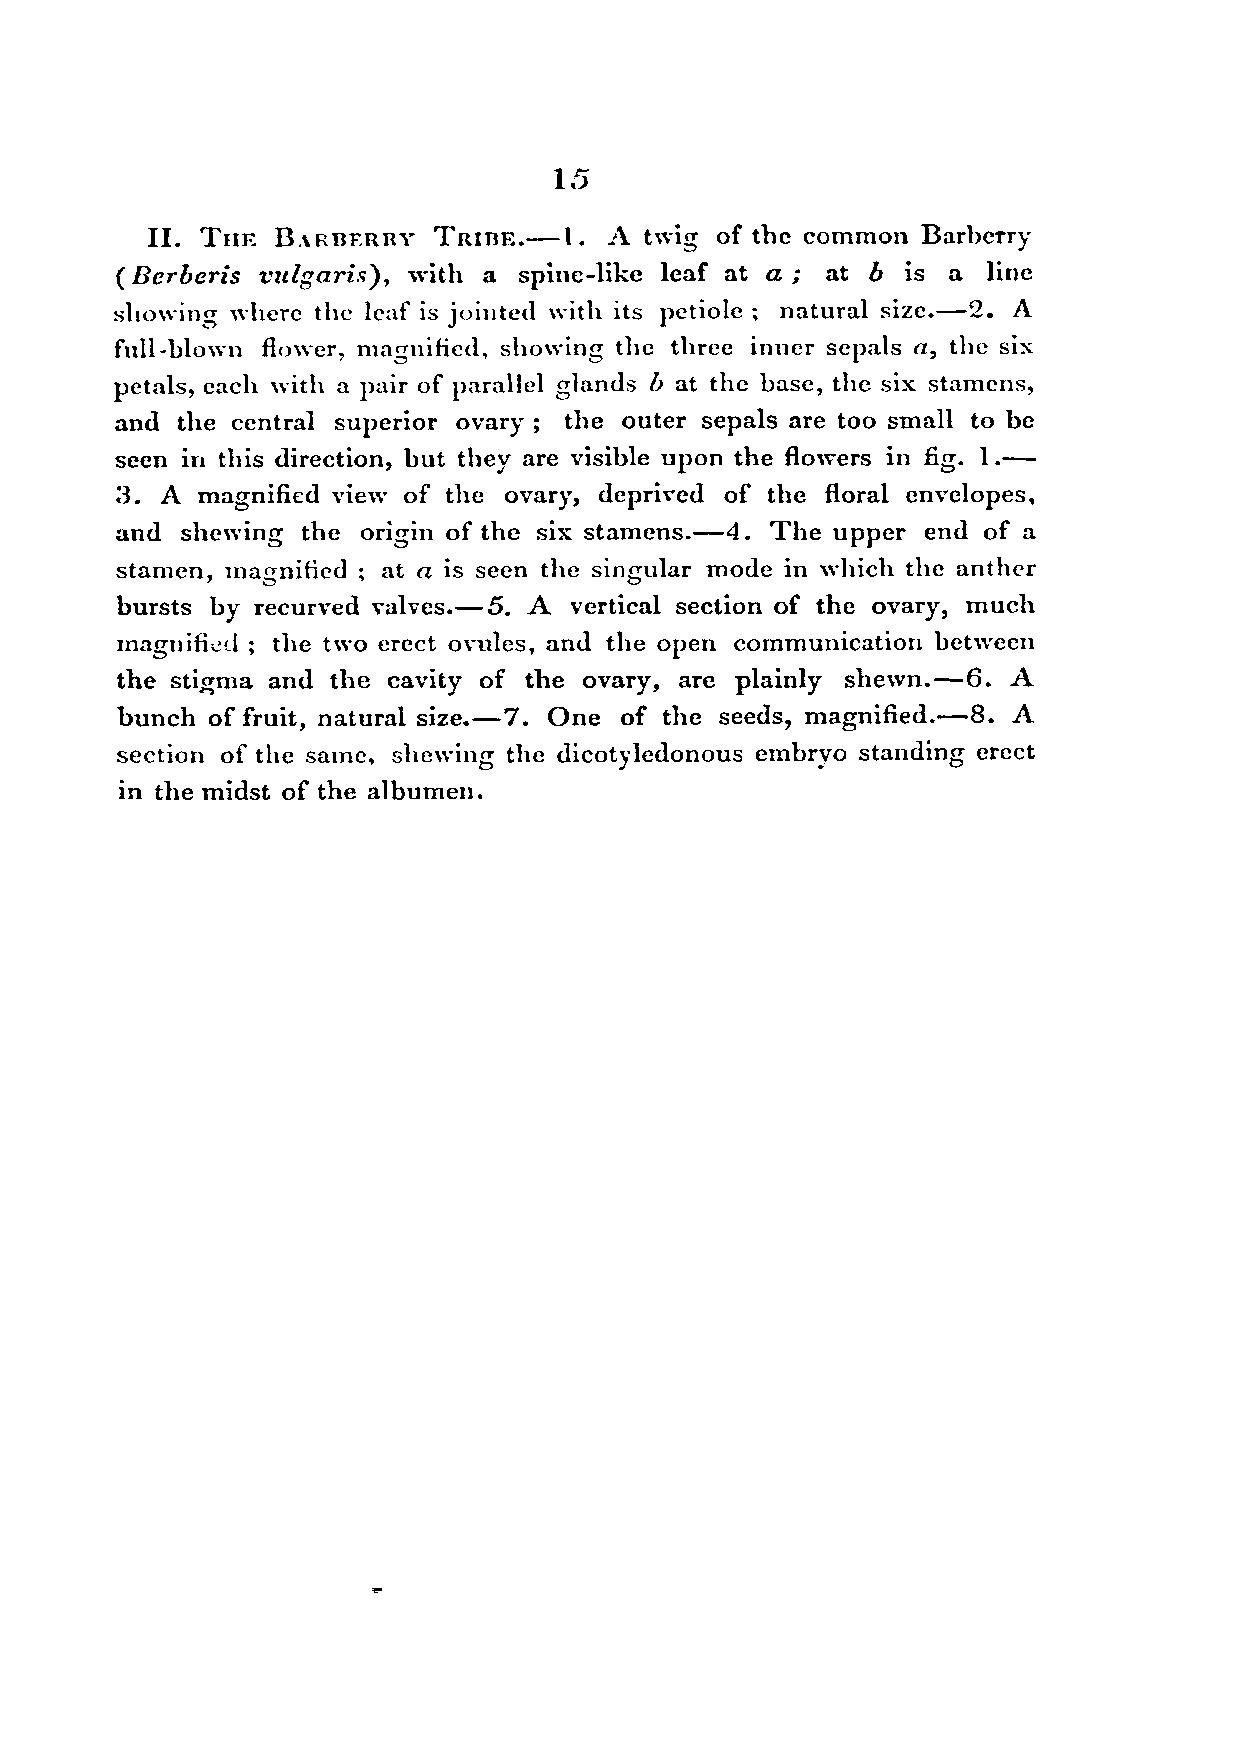content: (107, 216, 1037, 811)
content_pagenumber: (542, 160, 600, 193)
